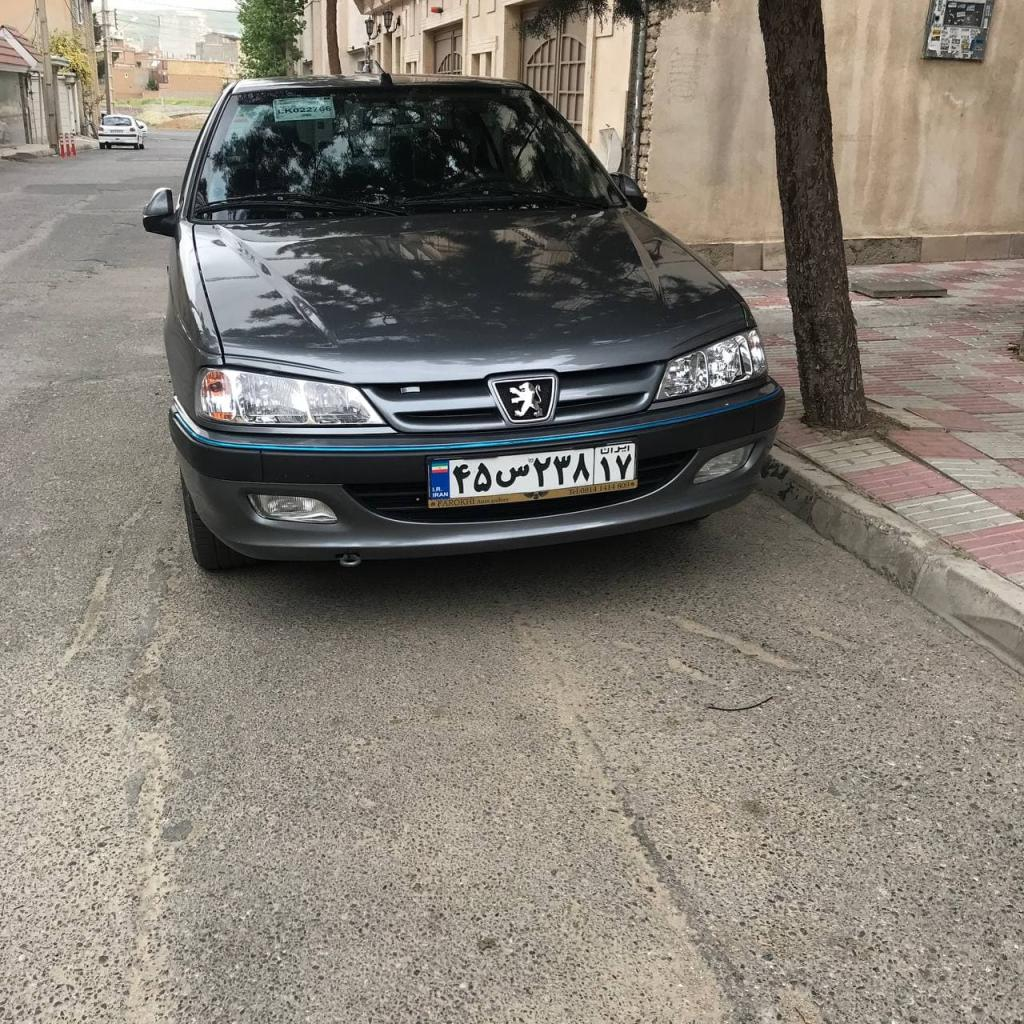Plates: (430, 442, 635, 499)
